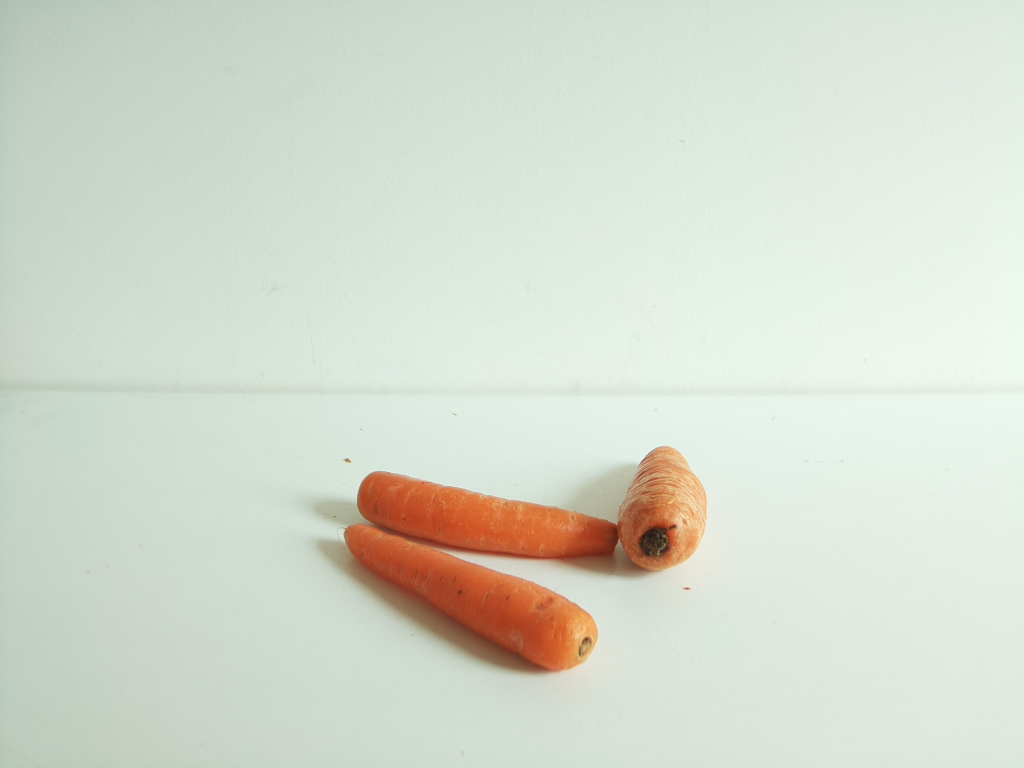carrot: (345, 440, 617, 673), (619, 449, 712, 575)
